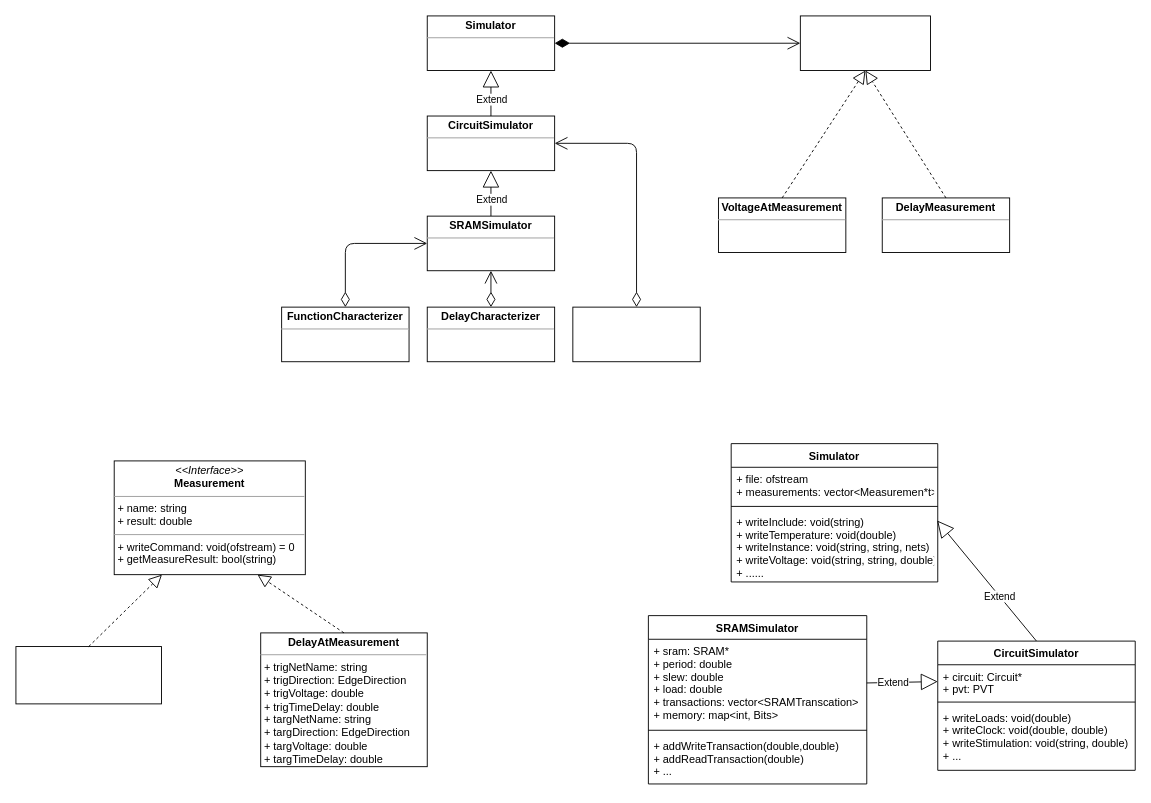
The diagram is 1151 pixels wide and 803 high, and some of its shapes have lost their labels. The shapes that lost their labels are listed below. From the top down, each one's box as (x1, y1, x2, y2) in pixels, then its label:
(799, 15, 930, 71): «interface» Measurement
(572, 306, 700, 362): SetupHoldCharacterizer
(15, 646, 162, 704): VoltageAtMeasurement + netName: string + measureTime: double
